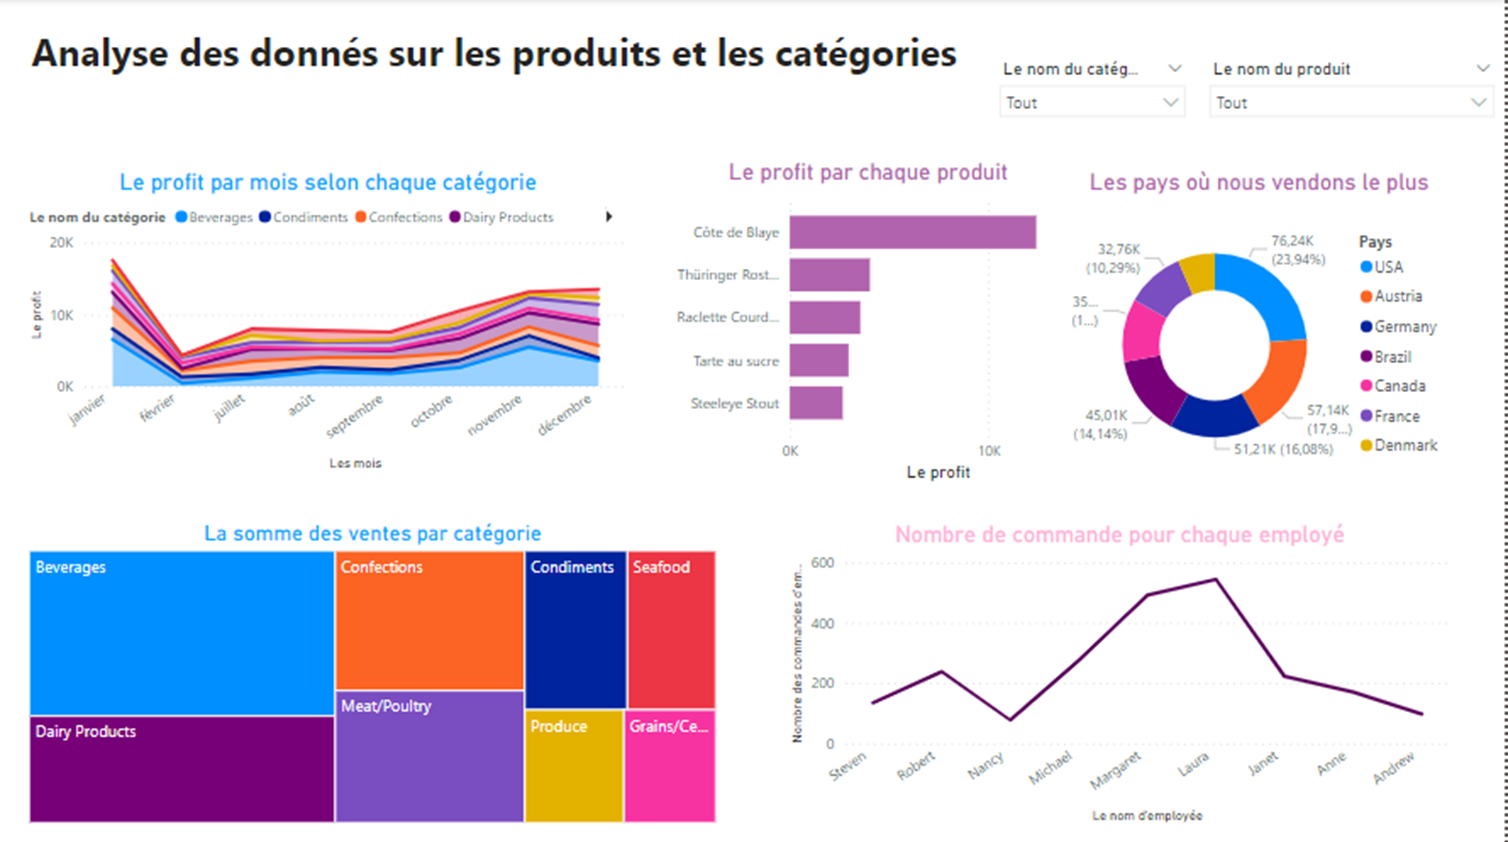

The page's visual inventory and layout, read from the dashboard file:
{"tool":"powerbi","page":{"name":"Page 3","canvas":[1280,720],"ordinal":1},"visuals":[{"type":"stackedAreaChart","fields":{"Category":["dwolap temps_id.Month_name"],"Y":["mesures.profite"],"Series":["dwolap categories.CategoryName"]},"box":[20,143.3,516.7,261.7],"z":2000},{"type":"slicer","fields":{"Values":["dwolap products.ProductName"]},"box":[1018.3,46.7,261.7,60],"z":4000},{"type":"lineChart","fields":{"Category":["dwolap employees.FirstName"],"Y":["mesures.Kpi"]},"box":[666.7,443.3,570,261.7],"z":5000},{"type":"barChart","fields":{"Category":["dwolap products.ProductName"],"Y":["mesures.profite"]},"box":[536.7,135,401.7,280],"z":6000},{"type":"textbox","box":[70,48.3,703.3,58.3],"z":8001},{"type":"slicer","fields":{"Values":["dwolap categories.CategoryName"]},"box":[840,46.7,178.3,60],"z":8002},{"type":"treemap","fields":{"Group":["dwolap categories.CategoryName"],"Values":["mesures.Total_sales"]},"box":[20,443,593,262],"z":8003},{"type":"donutChart","fields":{"Category":["dwolap Geography.Country"],"Y":["mesures.Total_sales"]},"box":[905,143.3,331.7,280],"z":8004}]}

Visuals, with their boxes in screenshot pixels (x1, y1, x2, y2), scaled from the page's 1280x720 canvas onto the 1508x842 screenshot:
stackedAreaChart - dwolap temps_id.Month_name x mesures.profite: <box>24,168,632,474</box>
slicer - dwolap products.ProductName: <box>1200,55,1507,125</box>
lineChart - dwolap employees.FirstName x mesures.Kpi: <box>785,518,1457,824</box>
barChart - dwolap products.ProductName x mesures.profite: <box>632,158,1106,485</box>
textbox: <box>82,56,911,125</box>
slicer - dwolap categories.CategoryName: <box>990,55,1200,125</box>
treemap - dwolap categories.CategoryName x mesures.Total_sales: <box>24,518,722,824</box>
donutChart - dwolap Geography.Country x mesures.Total_sales: <box>1066,168,1457,495</box>
